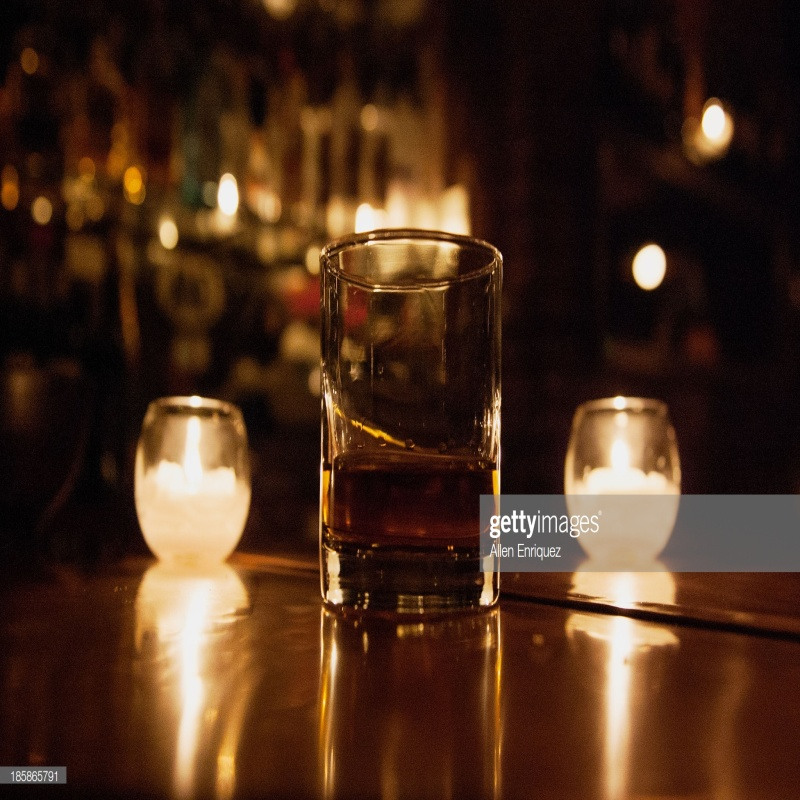whiskey: (327, 231, 503, 603)
